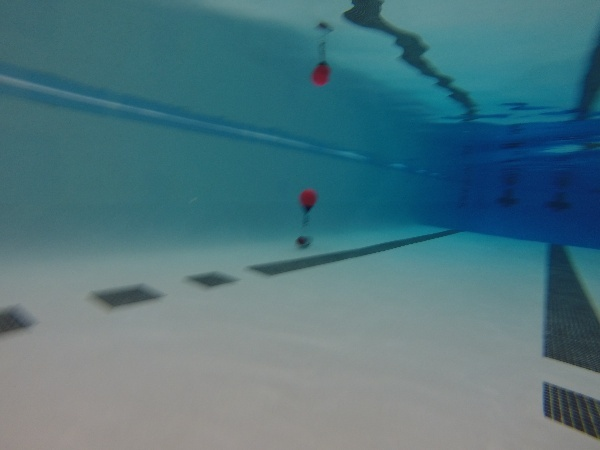buoy_red: (299, 187, 317, 213)
